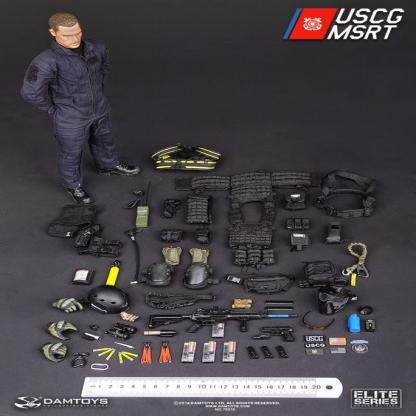Grenade: (346, 312, 362, 333)
Gun: (147, 306, 297, 338)
Pistol: (258, 325, 296, 342)
